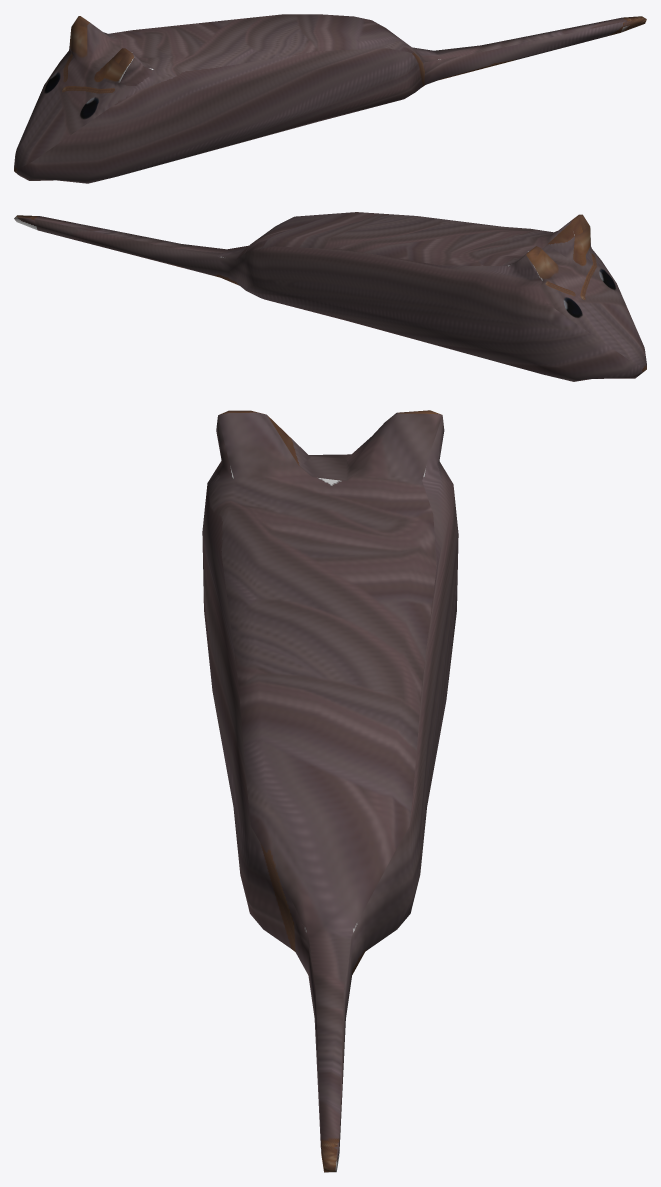
Rendered from RAt.glb.
3 views of the same model, one above another, from view 1: azimuth 30°, elevation 25°; view 2: azimuth 150°, elevation 25°; view 3: azimuth 270°, elevation 25° (orthographic). The views are drawn at different scales.
Parts seen in each view (by area): view 1: Cube; view 2: Cube; view 3: Cube.
Boxes of the visible parts, x1,y1,x2,y2 form: Cube: (14, 14, 646, 183); Cube: (14, 212, 646, 381); Cube: (202, 410, 458, 1172).
Size of the model in its own units: 11.12 by 2.07 by 1.95.
1 material, 1 textured.
